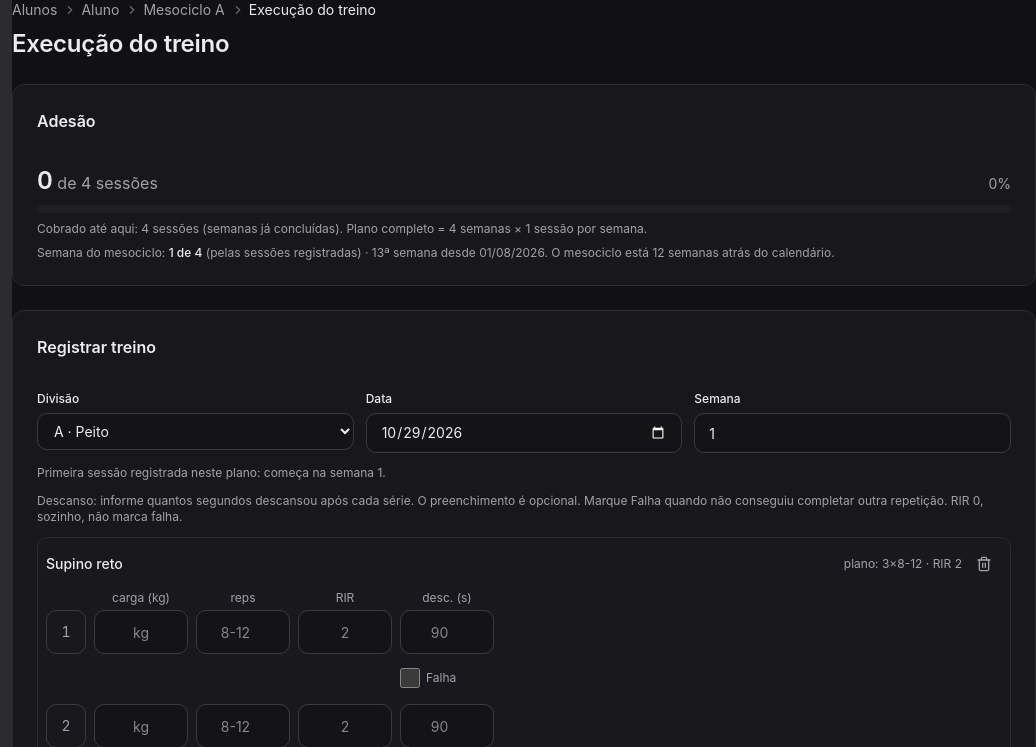
Test: prescrição efetiva e proteção durante o envio › bloqueia séries, observações e avulsos enquanto registra o snapshot enviado
This screenshot has width=1036, height=747.
Type "40" into the field named "Carga da série 1 de Supino reto" at (141, 632), box [94,610,188,654]
(page scrolled)
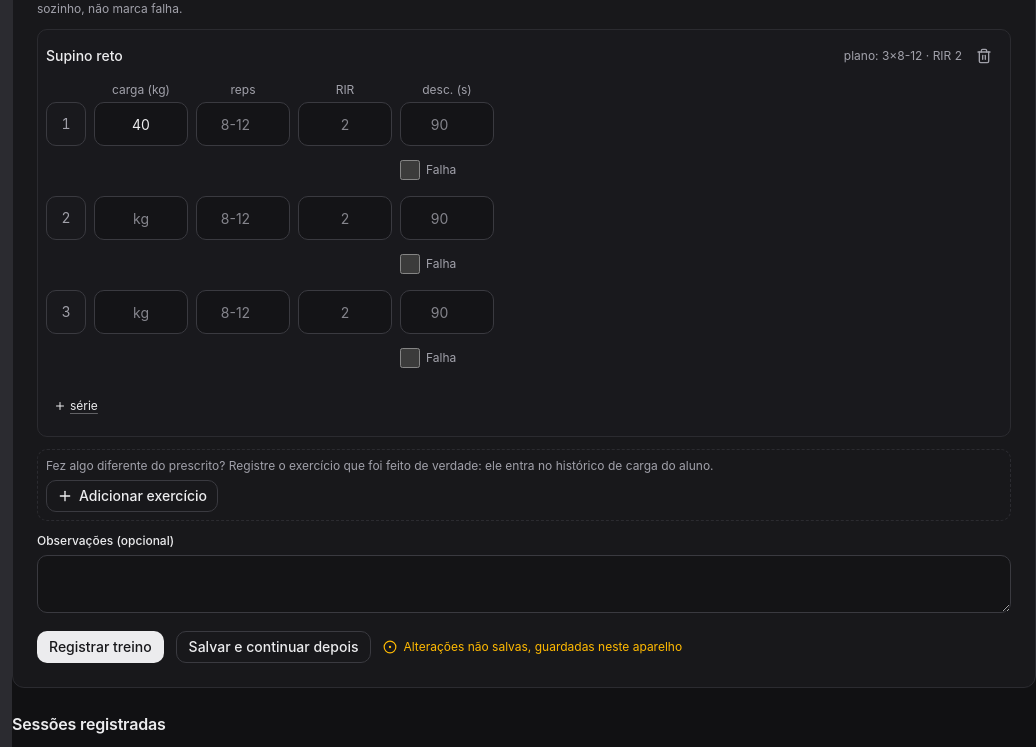
Click the button "Registrar treino" at (100, 647), box [37,631,164,663]
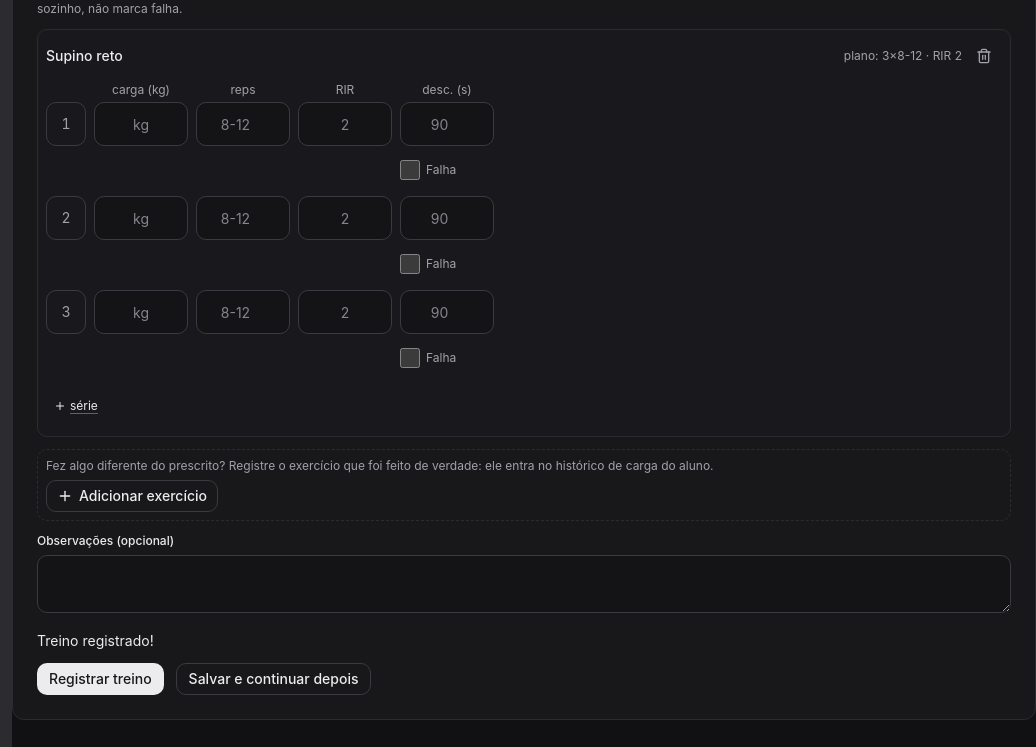
Now the text "Treino registrado!" is shown, box [37,632,154,649]
